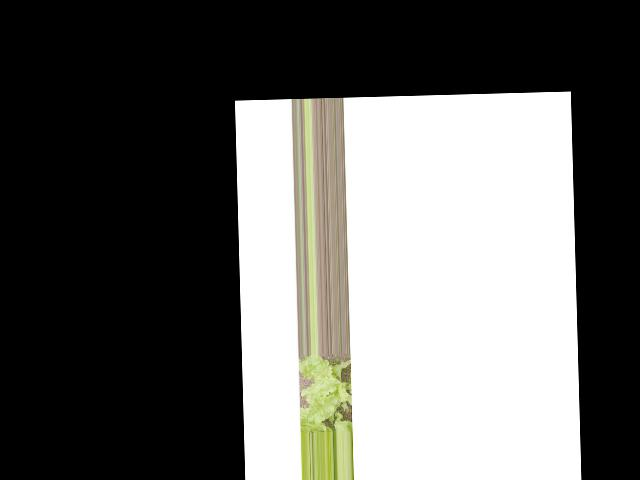lettuce: (300, 354, 356, 433)
